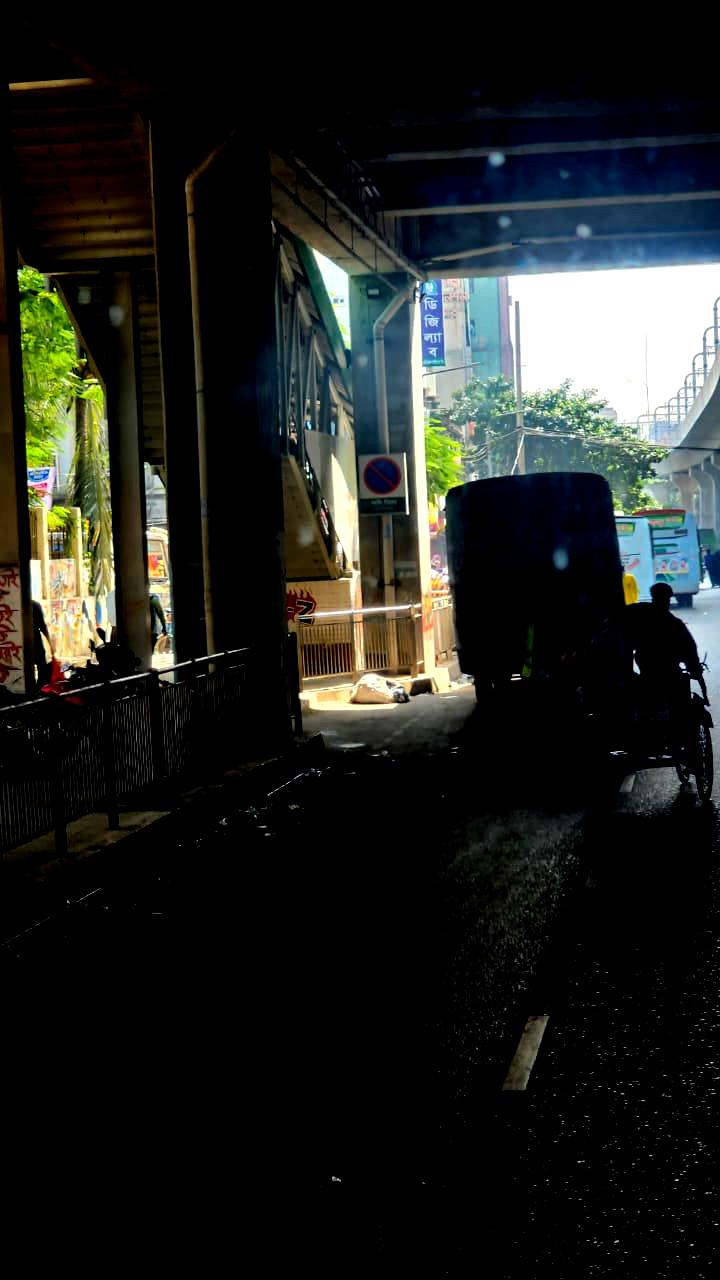No Parking: (357, 451, 408, 516)
